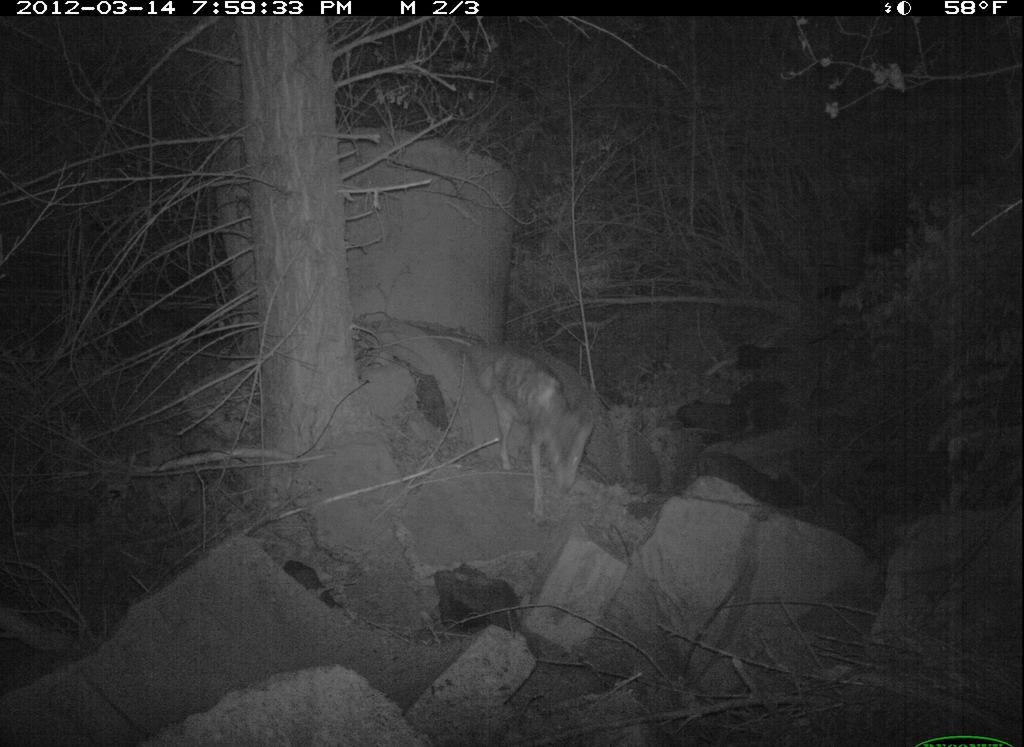coyote: (464, 336, 600, 533)
